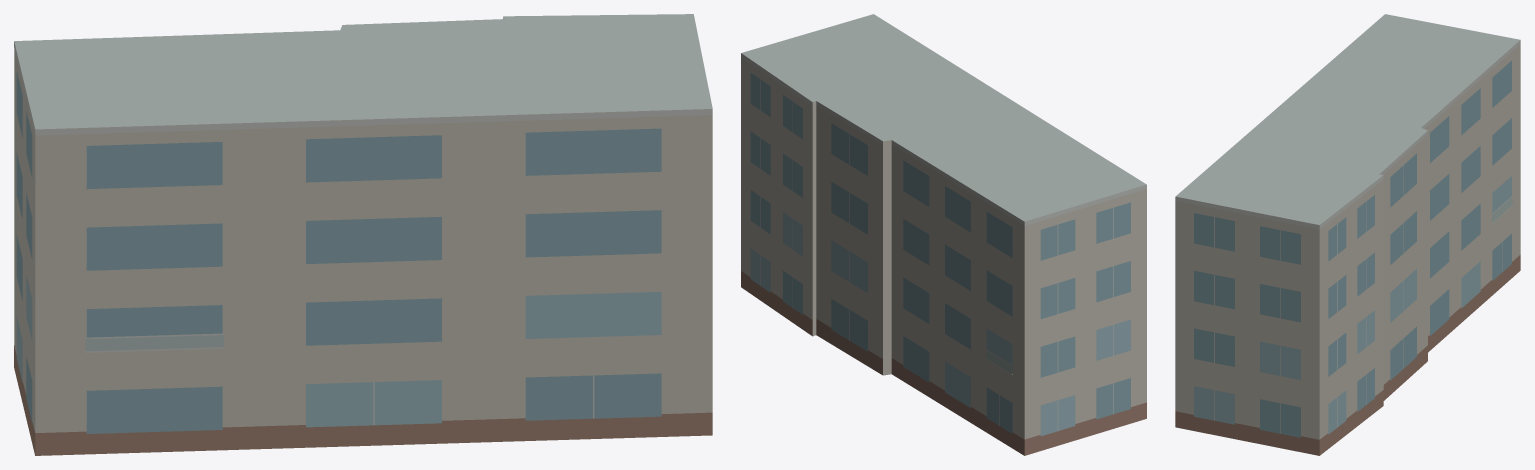
File: survey-upis-32640824.glb
The picture shows the model from 3 angles, left to right: view 1: azimuth 30°, elevation 25°; view 2: azimuth 150°, elevation 25°; view 3: azimuth 270°, elevation 25°; orthographic projection. The views are drawn at different scales.
Parts seen in each view (by area): view 1: survey-upis-32640824.tmp; view 2: survey-upis-32640824.tmp; view 3: survey-upis-32640824.tmp.
Part boxes in pixels (left/top/right/bottom): survey-upis-32640824.tmp: left=14, top=14, right=712, bottom=455; survey-upis-32640824.tmp: left=741, top=14, right=1146, bottom=455; survey-upis-32640824.tmp: left=1175, top=14, right=1520, bottom=455.
Bounding box in the file's own units: 25.91 × 13.2 × 17.9.
